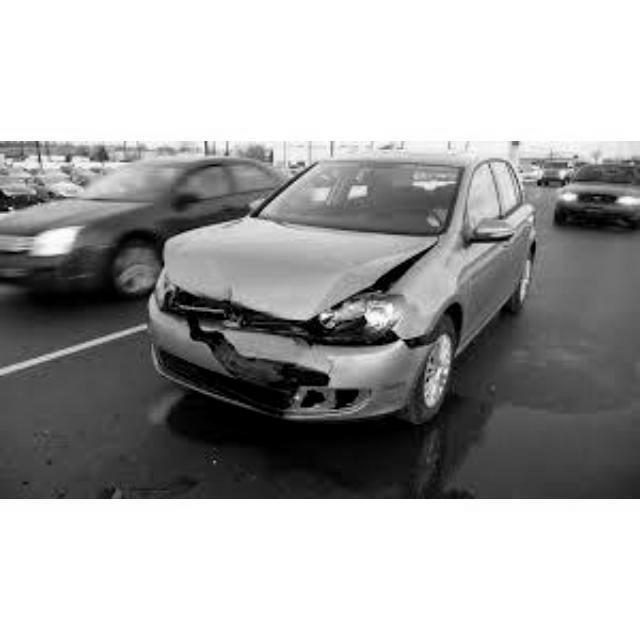bonnet-dent: (169, 220, 405, 318)
front-bumper-dent: (164, 329, 330, 412)
